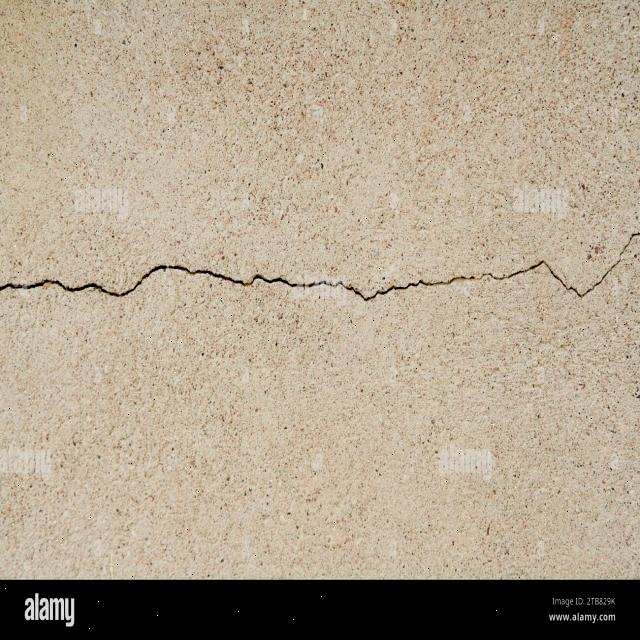crack: (0, 229, 639, 305)
